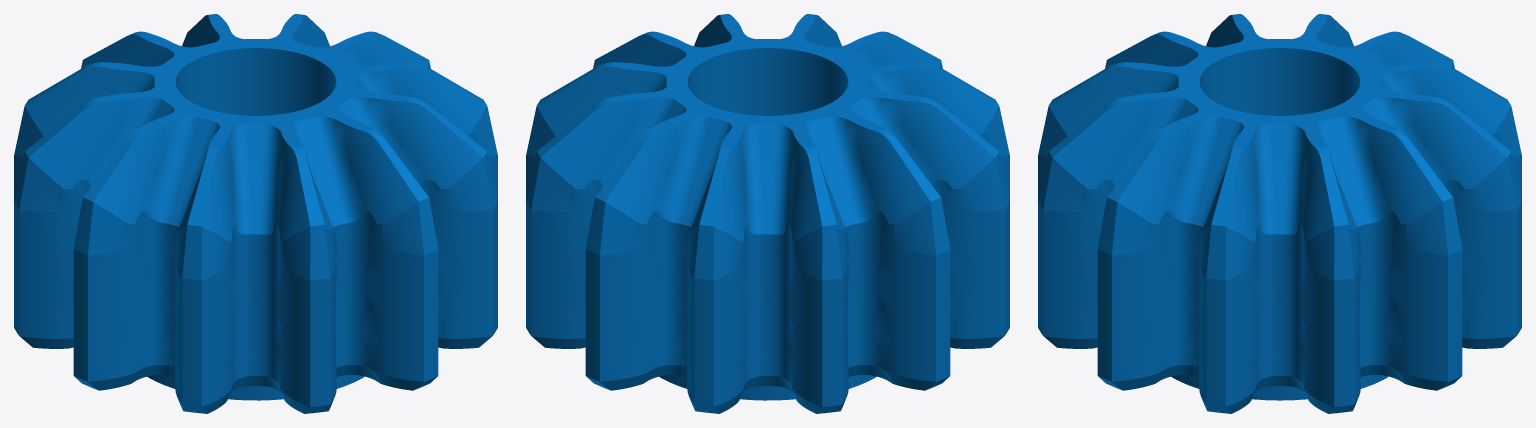
3 views of the same model, side by side, from view 1: azimuth 30°, elevation 25°; view 2: azimuth 150°, elevation 25°; view 3: azimuth 270°, elevation 25° (orthographic).
Visible parts, largest first — view 1: 12-Tooth Hybrid Gear (228-2500-250); view 2: 12-Tooth Hybrid Gear (228-2500-250); view 3: 12-Tooth Hybrid Gear (228-2500-250).
Boxes of the visible parts, box(x1,y1,x2,y2) form: 12-Tooth Hybrid Gear (228-2500-250): box(14, 14, 497, 413); 12-Tooth Hybrid Gear (228-2500-250): box(526, 14, 1009, 413); 12-Tooth Hybrid Gear (228-2500-250): box(1038, 14, 1521, 413).
Size of the model in its own units: 0.0145 by 0.00864 by 0.0145.
